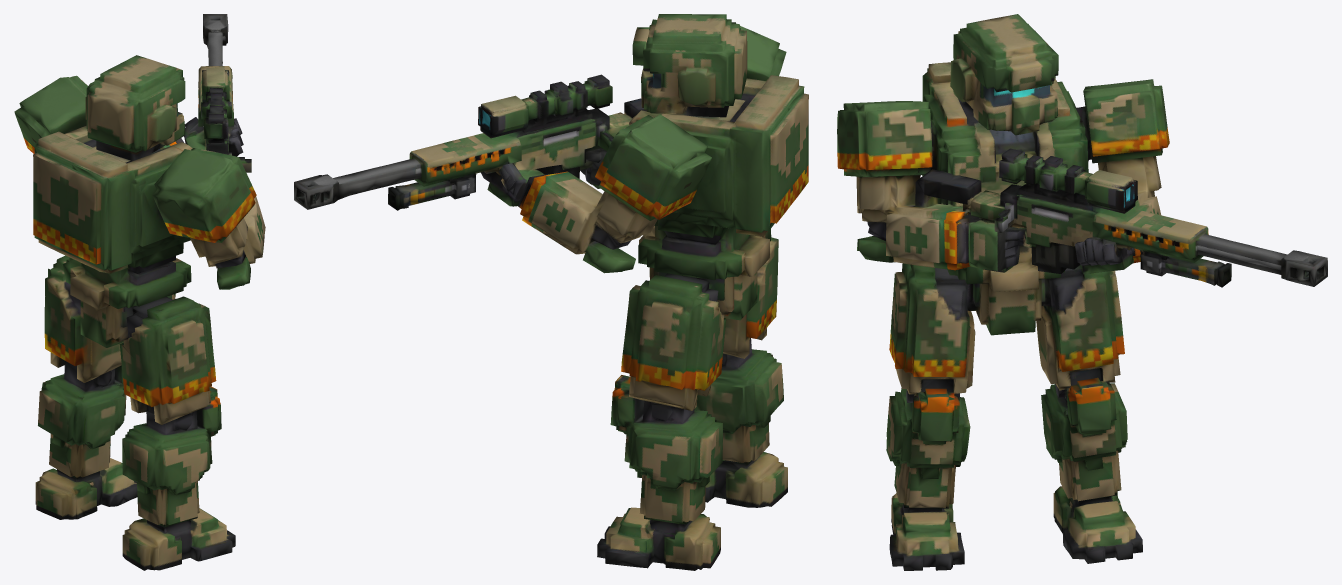
The model's file is 99489fb7-dd72-46f3-ba22-9e5221964cda-pbr_model.glb.
3 views of the same model, side by side, from view 1: azimuth 30°, elevation 25°; view 2: azimuth 150°, elevation 25°; view 3: azimuth 270°, elevation 25° (orthographic). The views are drawn at different scales.
Visible parts, largest first — view 1: tripo_node_99489fb7-dd72-46f3-ba22-9e5221964cda; view 2: tripo_node_99489fb7-dd72-46f3-ba22-9e5221964cda; view 3: tripo_node_99489fb7-dd72-46f3-ba22-9e5221964cda.
Boxes of the visible parts, box(x1,y1,x2,y2) form: tripo_node_99489fb7-dd72-46f3-ba22-9e5221964cda: box(14, 14, 265, 570); tripo_node_99489fb7-dd72-46f3-ba22-9e5221964cda: box(294, 14, 808, 570); tripo_node_99489fb7-dd72-46f3-ba22-9e5221964cda: box(837, 14, 1327, 570).
Size of the model in its own units: 0.7314 by 1 by 0.8698.
Materials: 1 (1 with a texture image).
